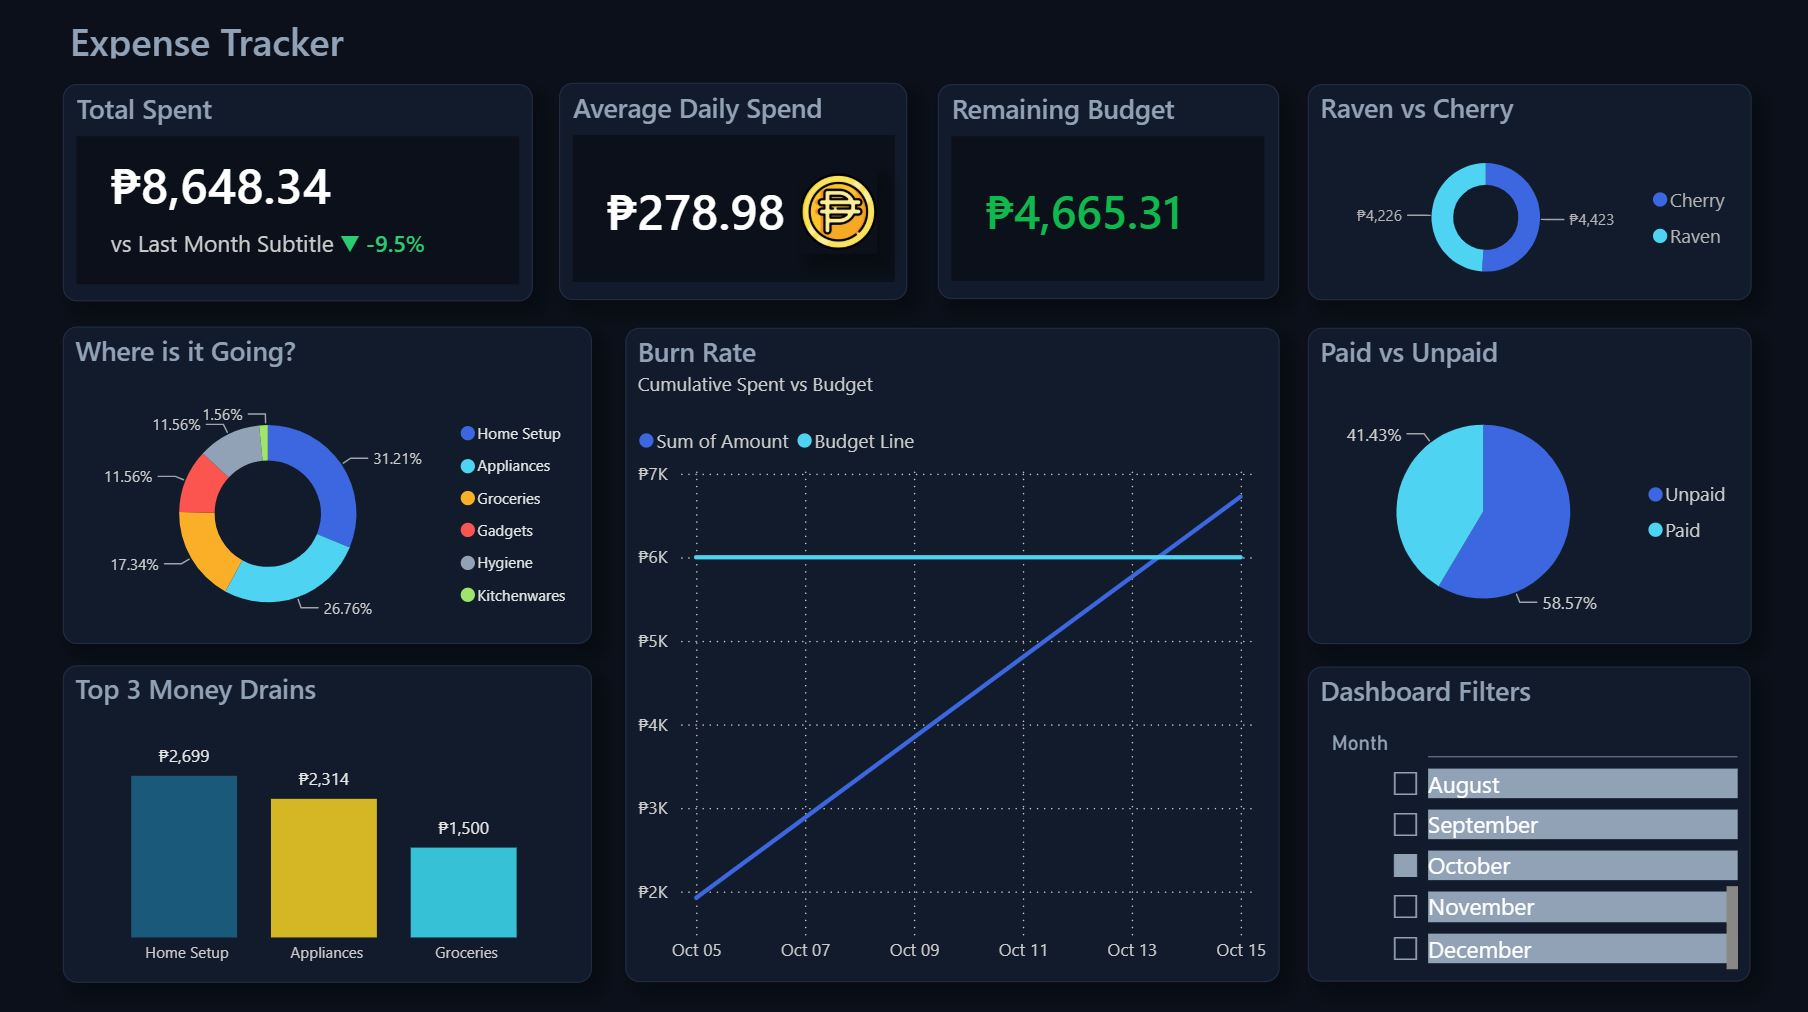

The page's visual inventory and layout, read from the dashboard file:
{"tool":"powerbi","page":{"name":"Page 1","canvas":[1280,720],"ordinal":0},"visuals":[{"type":"slicer","title":"Dashboard Filters","fields":{"Values":["Data.Due Date.Variation.Date Hierarchy.Year","Data.Due Date.Variation.Date Hierarchy.Month"]},"box":[923.4,472.3,311.3,221.7],"z":0},{"type":"cardVisual","title":"Total Spent","fields":{"Data":["Sum(Data.Amount)"]},"box":[48.7,63.5,330,152.9],"z":1000},{"type":"cardVisual","title":"Average Daily Spend","fields":{"Data":["Data.Avg Daily Spend"]},"box":[397.5,62.5,245,152.5],"z":2000},{"type":"image","box":[566.7,123.3,53.3,60],"z":3000},{"type":"cardVisual","title":"Remaining Budget","fields":{"Data":["Sum(Budget.Column1)"]},"box":[663.1,63.6,240,151.3],"z":4000},{"type":"donutChart","title":"Where is it Going?","fields":{"Category":["Data.Category"],"Y":["Sum(Data.Amount)"]},"box":[48.7,233.5,371.7,223.3],"z":5000},{"type":"clusteredColumnChart","title":"Top 3 Money Drains","fields":{"Category":["Data.Category"],"Y":["Sum(Data.Amount)"]},"box":[48.7,471.9,371.7,223.3],"z":6000},{"type":"lineChart","title":"Burn Rate","fields":{"Category":["Data.Due Date"],"Y":["Sum(Data.Amount)","Data.Budget Line"]},"box":[443.4,234.2,459.8,459.8],"z":7000},{"type":"donutChart","title":"Raven vs Cherry","fields":{"Category":["Data.Account"],"Y":["Sum(Data.Amount)"]},"box":[923.3,63.3,311.7,151.7],"z":8000},{"type":"pieChart","title":"Paid vs Unpaid","fields":{"Category":["Data.Status"],"Y":["Sum(Data.Amount)"]},"box":[923.4,234.2,312.3,222.7],"z":8001},{"type":"textbox","title":"Expense Tracker","box":[48.3,14.9,299.6,30.8],"z":8002}]}

Visuals, with their boxes in screenshot pixels (x1, y1, x2, y2), scaled from the page's 1280x720 canvas onto the 1808x1012 screenshot:
"Dashboard Filters" slicer: <region>1304, 664, 1744, 975</region>
"Total Spent" cardVisual: <region>69, 89, 535, 304</region>
"Average Daily Spend" cardVisual: <region>561, 88, 908, 302</region>
image: <region>800, 173, 876, 258</region>
"Remaining Budget" cardVisual: <region>937, 89, 1276, 302</region>
"Where is it Going?" donutChart: <region>69, 328, 594, 642</region>
"Top 3 Money Drains" clusteredColumnChart: <region>69, 663, 594, 977</region>
"Burn Rate" lineChart: <region>626, 329, 1276, 975</region>
"Raven vs Cherry" donutChart: <region>1304, 89, 1744, 302</region>
"Paid vs Unpaid" pieChart: <region>1304, 329, 1745, 642</region>
"Expense Tracker" textbox: <region>68, 21, 491, 64</region>
